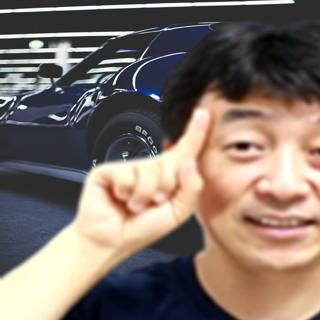IRRITATED: (73, 104, 216, 258)
